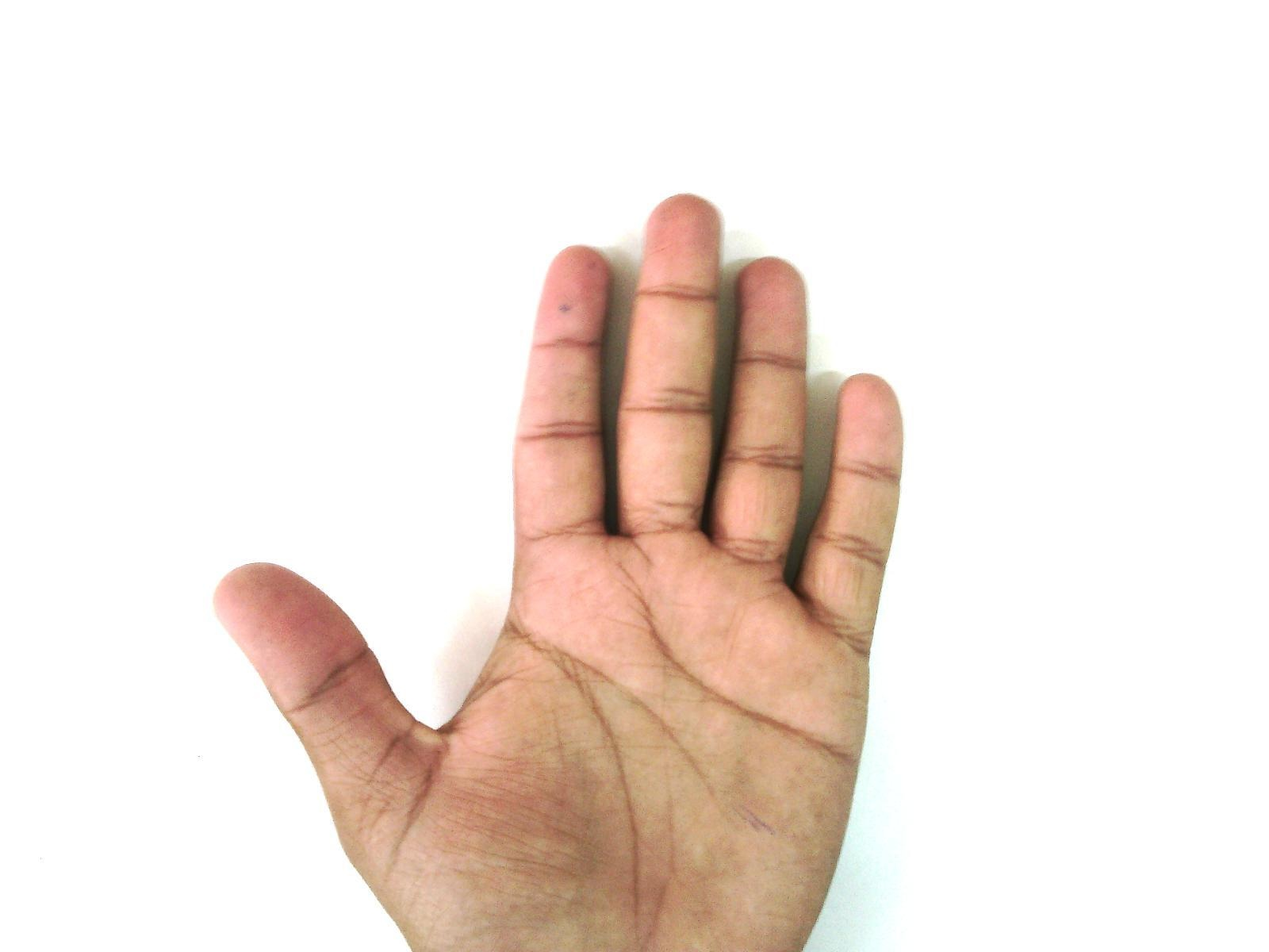open_palm: (212, 192, 908, 951)
